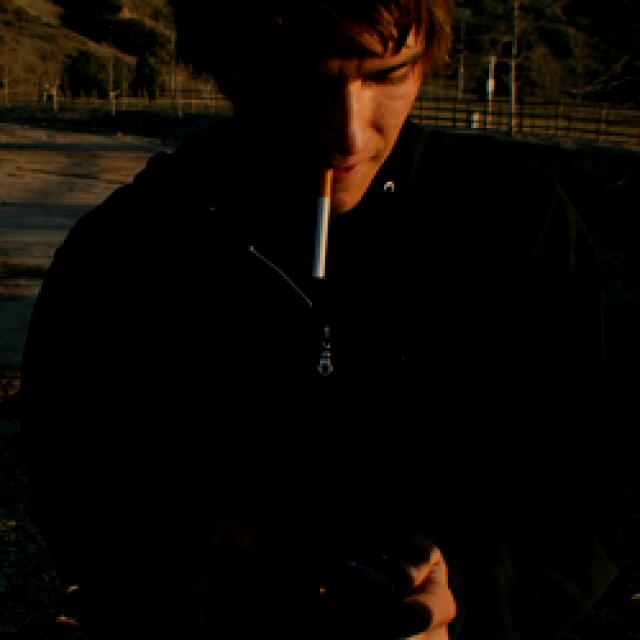Smooking: (308, 166, 344, 284)
